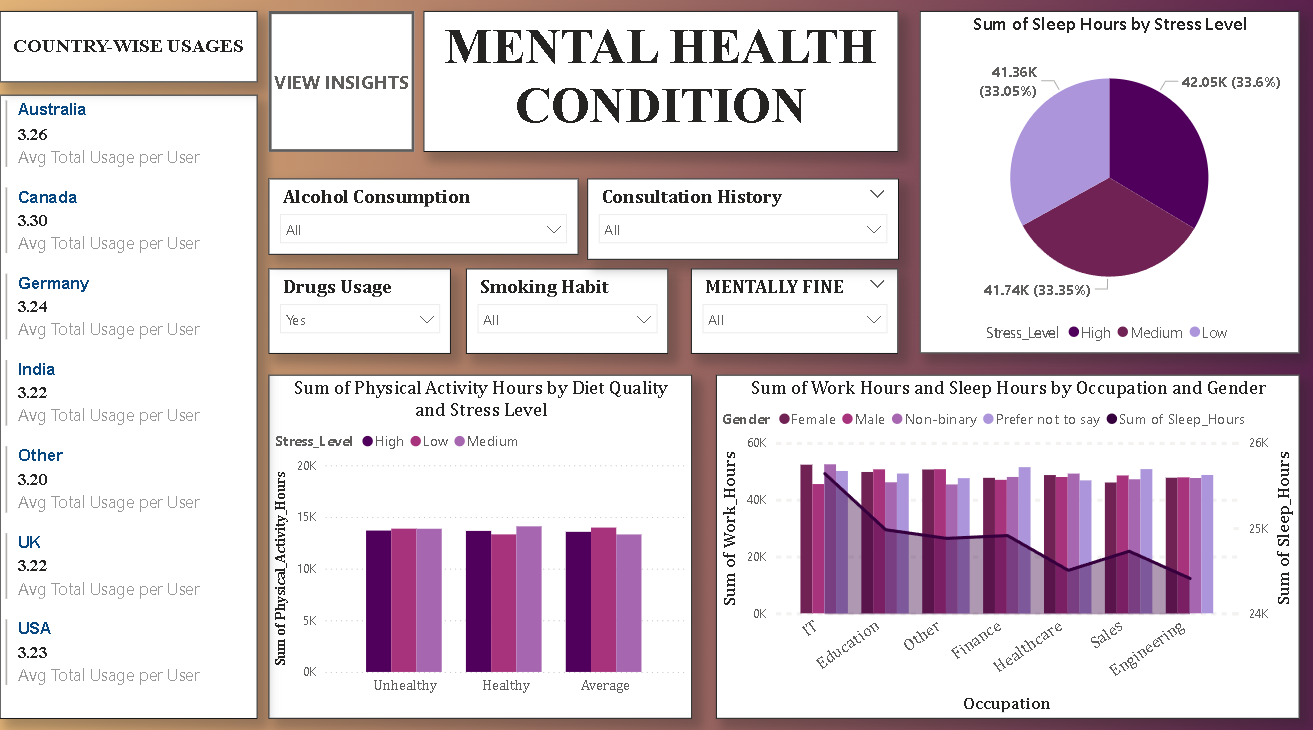

The page's visual inventory and layout, read from the dashboard file:
{"tool":"powerbi","page":{"name":"MENTAL HEALTH","canvas":[1280,720],"ordinal":2},"visuals":[{"type":"pieChart","title":"Sum of Sleep Hours by Stress Level","fields":{"Category":["mental_health_data final data.Stress_Level"],"Y":["Sum(mental_health_data final data.Sleep_Hours)"]},"box":[896.4,19.3,366.8,330.6],"z":0},{"type":"clusteredColumnChart","title":"Sum of Physical Activity Hours by Diet Quality and Stress Level","fields":{"Category":["mental_health_data final data.Diet_Quality"],"Y":["Sum(mental_health_data final data.Physical_Activity_Hours)"],"Series":["mental_health_data final data.Stress_Level"]},"box":[267.8,370.4,409,331.8],"z":1000},{"type":"lineClusteredColumnComboChart","title":"Sum of Work Hours and  Sleep Hours by Occupation and Gender","fields":{"Category":["mental_health_data final data.Occupation"],"Series":["mental_health_data final data.Gender"],"Y":["Sum(mental_health_data final data.Work_Hours)"],"Y2":["Sum(mental_health_data final data.Sleep_Hours)"]},"box":[699.7,370.4,563.4,331.8],"z":2000},{"type":"multiRowCard","fields":{"Values":["mental_health_data final data.Country","SocialMedia.Avg Total Usage per User"]},"box":[8.4,100.1,248.5,602],"z":3000},{"type":"slicer","fields":{"Values":["mental_health_data final data.Mental_Health_Condition"]},"box":[675.6,267.8,200.3,82],"z":4000},{"type":"slicer","fields":{"Values":["mental_health_data final data.Medication_Usage"]},"box":[267.8,267.8,176.1,82],"z":5000},{"type":"slicer","fields":{"Values":["mental_health_data final data.Alcohol_Consumption"]},"box":[267.8,181,299.2,73.6],"z":6000},{"type":"slicer","fields":{"Values":["mental_health_data final data.Smoking_Habit"]},"box":[458.4,267.8,195.4,82],"z":7000},{"type":"textbox","box":[417.4,19.3,458.4,136.3],"z":8000},{"type":"textbox","box":[8.4,19.3,248.5,68.8],"z":9000},{"type":"slicer","fields":{"Values":["mental_health_data final data.Consultation_History"]},"box":[575.5,181,300.4,78.4],"z":10000},{"type":"actionButton","box":[267.8,19.3,141.2,136.3],"z":11000}]}

Visuals, with their boxes in screenshot pixels (x1, y1, x2, y2), scaled from the page's 1280x720 canvas onto the 1313x730 screenshot:
"Sum of Sleep Hours by Stress Level" pieChart: 920,20,1296,355
"Sum of Physical Activity Hours by Diet Quality and Stress Level" clusteredColumnChart: 275,376,694,712
"Sum of Work Hours and  Sleep Hours by Occupation and Gender" lineClusteredColumnComboChart: 718,376,1296,712
multiRowCard - mental_health_data final data.Country x SocialMedia.Avg Total Usage per User: 9,101,264,712
slicer - mental_health_data final data.Mental_Health_Condition: 693,272,898,355
slicer - mental_health_data final data.Medication_Usage: 275,272,455,355
slicer - mental_health_data final data.Alcohol_Consumption: 275,184,582,258
slicer - mental_health_data final data.Smoking_Habit: 470,272,671,355
textbox: 428,20,898,158
textbox: 9,20,264,89
slicer - mental_health_data final data.Consultation_History: 590,184,898,263
actionButton: 275,20,420,158
